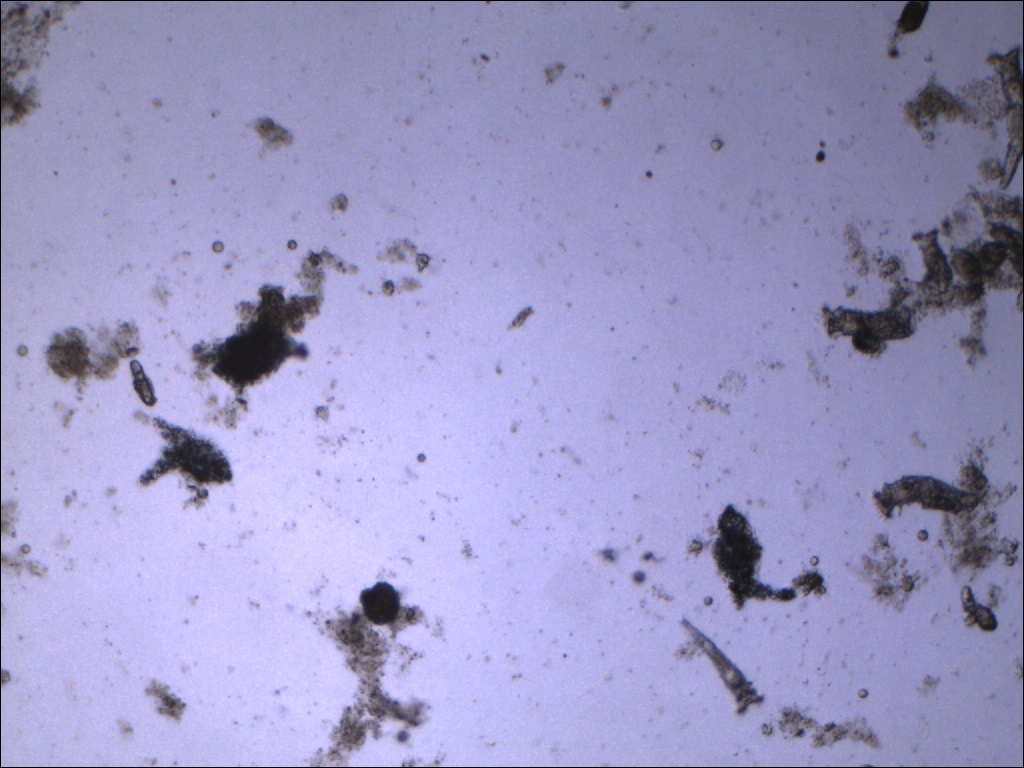amoeba: (214, 279, 313, 406), (710, 501, 803, 608), (135, 414, 240, 503)
